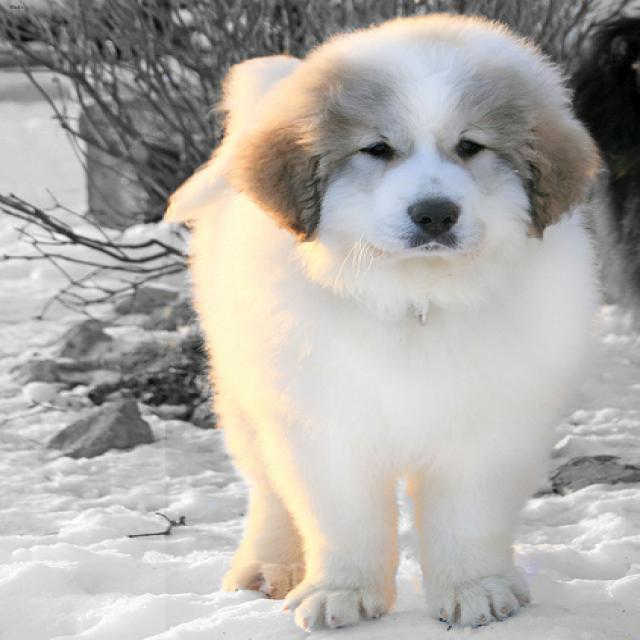dog-great_pyrenees: (150, 1, 617, 637)
